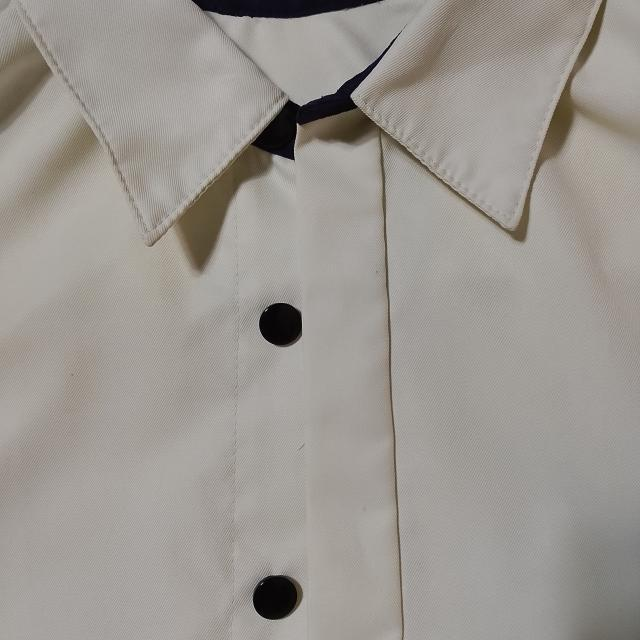education_male_uniform: (4, 0, 640, 640), (0, 0, 306, 372)
